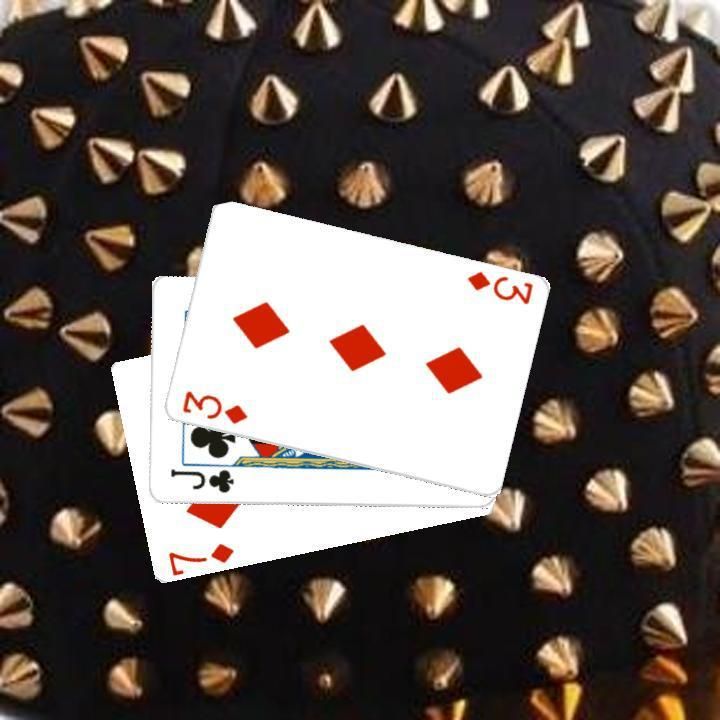3: (177, 386, 250, 427), (462, 267, 534, 307)
7: (163, 539, 236, 575)
J: (165, 465, 235, 496)
